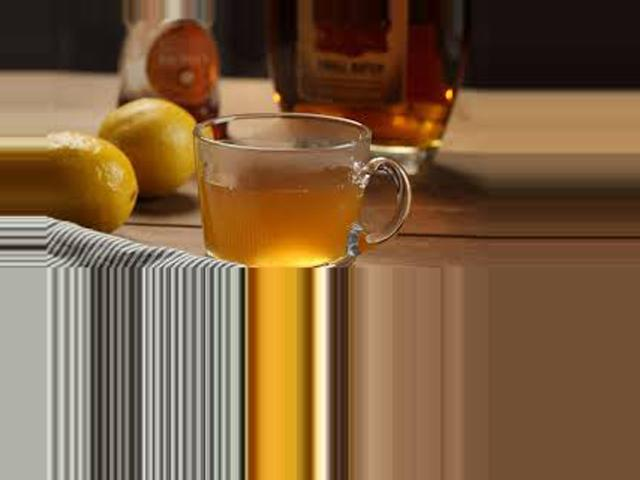lemon: (48, 142, 126, 227)
